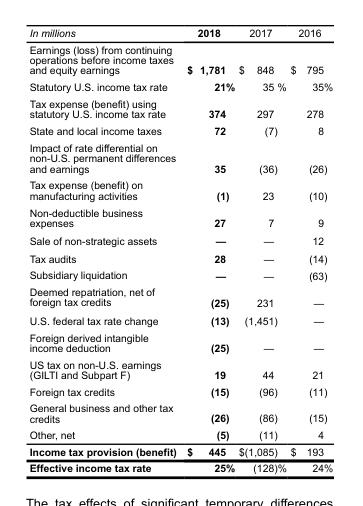table: (28, 29, 332, 474)
table column: (28, 29, 181, 474), (181, 29, 236, 474), (236, 29, 287, 474), (287, 29, 332, 474)
table column header: (28, 29, 332, 42)
table row: (28, 42, 332, 80), (28, 140, 332, 178), (28, 96, 332, 124), (28, 205, 332, 233), (28, 285, 332, 313), (28, 178, 332, 205), (28, 330, 332, 357), (28, 357, 332, 384), (28, 401, 332, 427), (28, 233, 332, 251), (28, 251, 332, 268), (28, 268, 332, 285), (28, 313, 332, 330), (28, 384, 332, 401), (28, 427, 332, 444), (28, 444, 332, 461), (28, 80, 332, 96), (28, 124, 332, 140), (28, 29, 332, 42), (28, 461, 332, 474)
